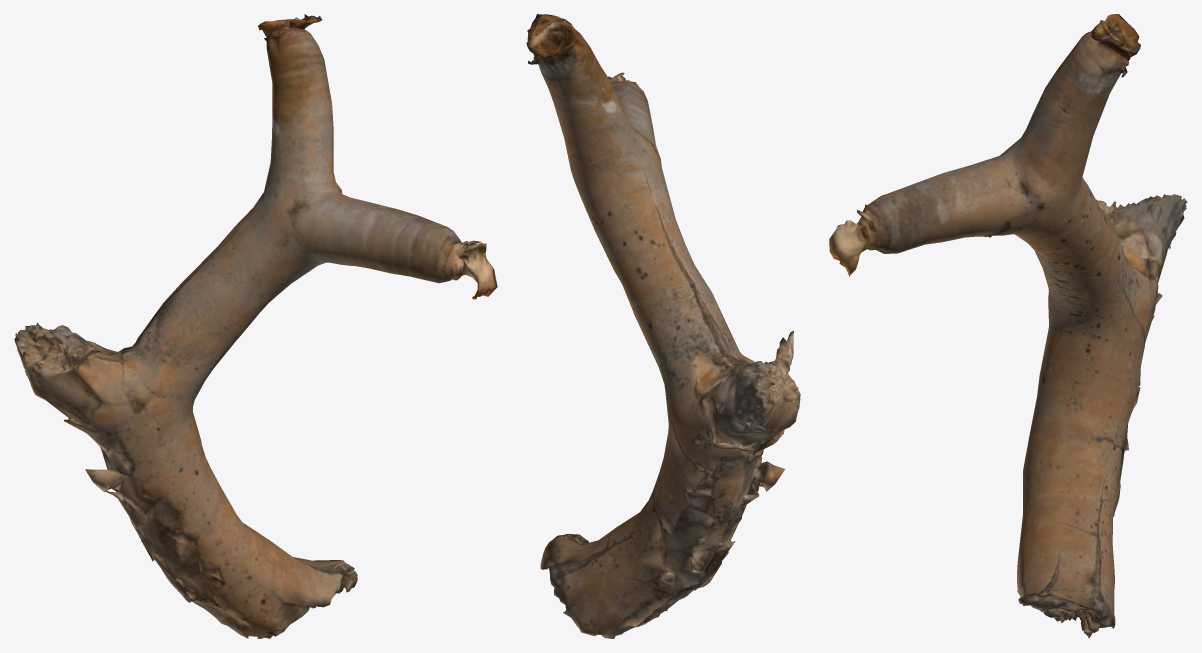
Rendered from dead_quiver_branch_01.glb.
3 renders of one model, left to right at view 1: azimuth 30°, elevation 25°; view 2: azimuth 150°, elevation 25°; view 3: azimuth 270°, elevation 25°, orthographic. The views are drawn at different scales.
Visible parts, largest first — view 1: dead_quiver_branch_01; view 2: dead_quiver_branch_01; view 3: dead_quiver_branch_01.
Boxes of the visible parts, x1,y1,x2,y2 form: dead_quiver_branch_01: (14, 14, 497, 638); dead_quiver_branch_01: (526, 14, 800, 638); dead_quiver_branch_01: (829, 14, 1187, 638).
Bounding box in the file's own units: 0.2549 × 0.4384 × 0.2268.
1 material, 1 textured.
